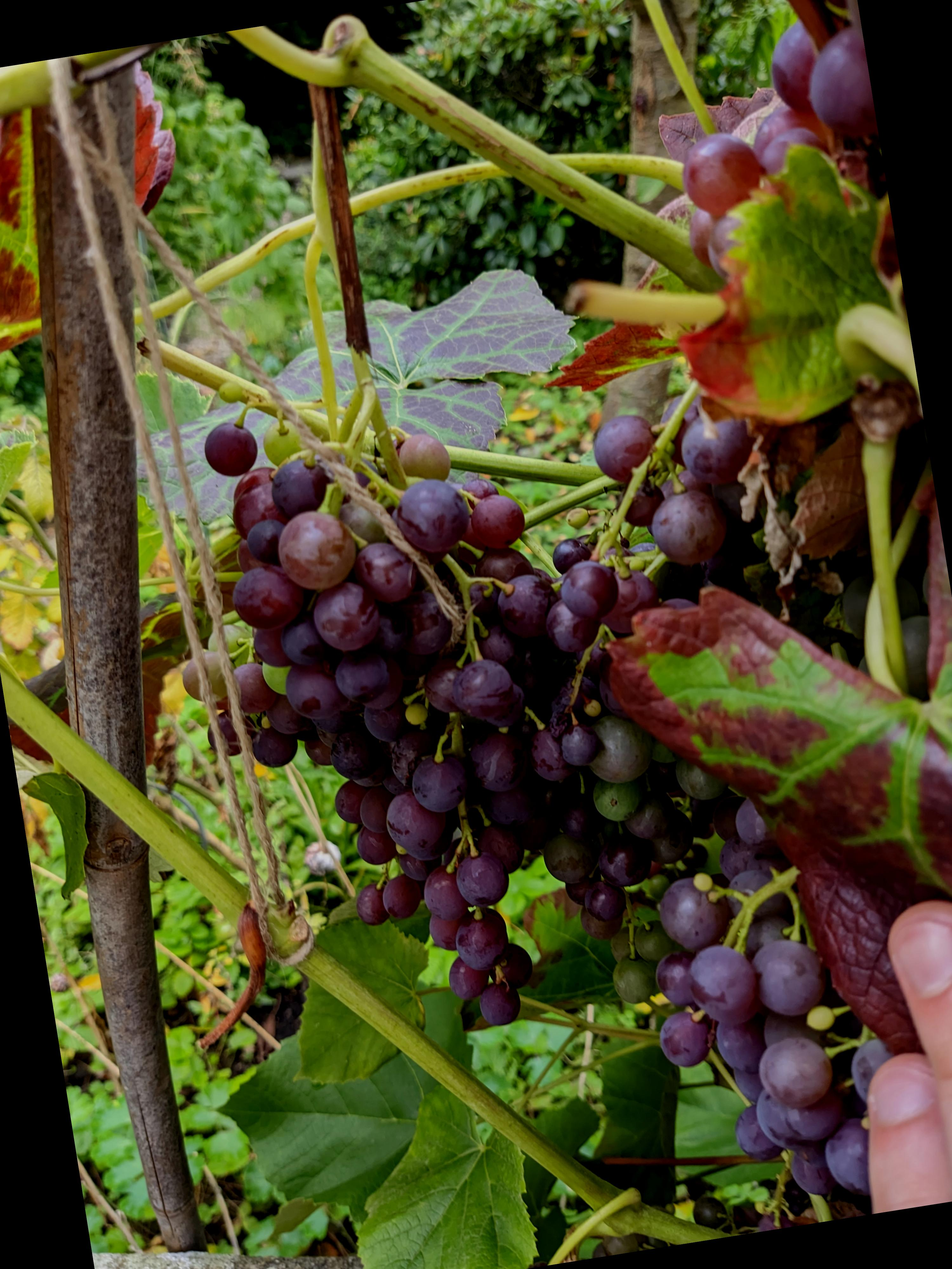Grape Unripe: (53, 415, 632, 1145), (538, 856, 849, 1269), (563, 12, 810, 371), (502, 463, 690, 653)
